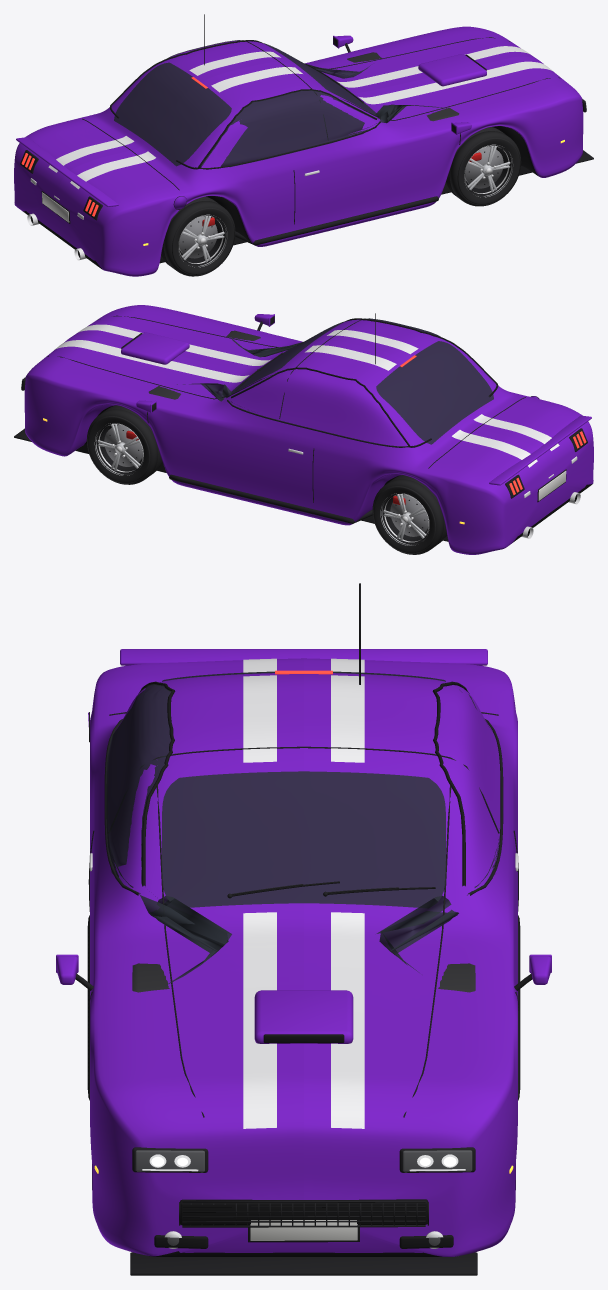
3 renders of one model, top to bottom at view 1: azimuth 30°, elevation 25°; view 2: azimuth 150°, elevation 25°; view 3: azimuth 270°, elevation 25°, orthographic. The views are drawn at different scales.
Parts seen in each view (by area): view 1: body, glass_screen_1, glass_side_R, stripe, wheel_RR_tyre, wheel_FR_tyre, stripe.001, bonnet_scoop, side_skirt, wing_lip, glass_screen_0, wheel_RR_disc (+8 smaller); view 2: body, glass_screen_1, stripe.001, wheel_RL_tyre, wheel_FL_tyre, stripe, bonnet_scoop, side_skirt.001, wing_lip, glass_screen_0, wheel_RL_disc, wheel_FL_disc (+8 smaller); view 3: body, glass_screen_0, stripe, stripe.001, glass_side_R, splitter, bonnet_scoop, grille_back, wing_lip, glass_side_L, plate_front, dashboard (+6 smaller).
Boxes of the visible parts, <box> form: body: <box>14,26,583,276</box>; glass_screen_1: <box>114,62,231,166</box>; glass_side_R: <box>199,90,446,167</box>; stripe: <box>70,61,553,189</box>; wheel_RR_tyre: <box>161,196,235,276</box>; wheel_FR_tyre: <box>445,127,521,206</box>; stripe.001: <box>48,46,530,172</box>; bonnet_scoop: <box>418,54,486,86</box>; side_skirt: <box>235,196,438,245</box>; wing_lip: <box>16,137,118,206</box>; glass_screen_0: <box>263,43,377,115</box>; wheel_RR_disc: <box>179,216,217,258</box>; body: <box>24,305,593,554</box>; glass_screen_1: <box>376,341,493,444</box>; stripe.001: <box>54,340,537,467</box>; wheel_RL_tyre: <box>372,475,446,554</box>; wheel_FL_tyre: <box>86,405,162,484</box>; stripe: <box>78,324,559,450</box>; bonnet_scoop: <box>121,332,189,364</box>; side_skirt.001: <box>169,474,372,523</box>; wing_lip: <box>489,415,591,485</box>; glass_screen_0: <box>230,321,344,394</box>; wheel_RL_disc: <box>390,495,428,536</box>; wheel_FL_disc: <box>104,425,142,466</box>; body: <box>90,658,517,1256</box>; glass_screen_0: <box>162,771,445,907</box>; stripe: <box>243,658,276,1128</box>; stripe.001: <box>331,658,364,1128</box>; glass_side_R: <box>106,684,231,985</box>; splitter: <box>130,1252,477,1275</box>; bonnet_scoop: <box>254,990,353,1043</box>; grille_back: <box>180,1199,428,1225</box>; wing_lip: <box>120,649,487,665</box>; glass_side_L: <box>376,685,500,972</box>; plate_front: <box>250,1220,357,1240</box>; dashboard: <box>132,963,475,992</box>.
Size of the model in its own units: 5.12 by 1.94 by 2.21.
